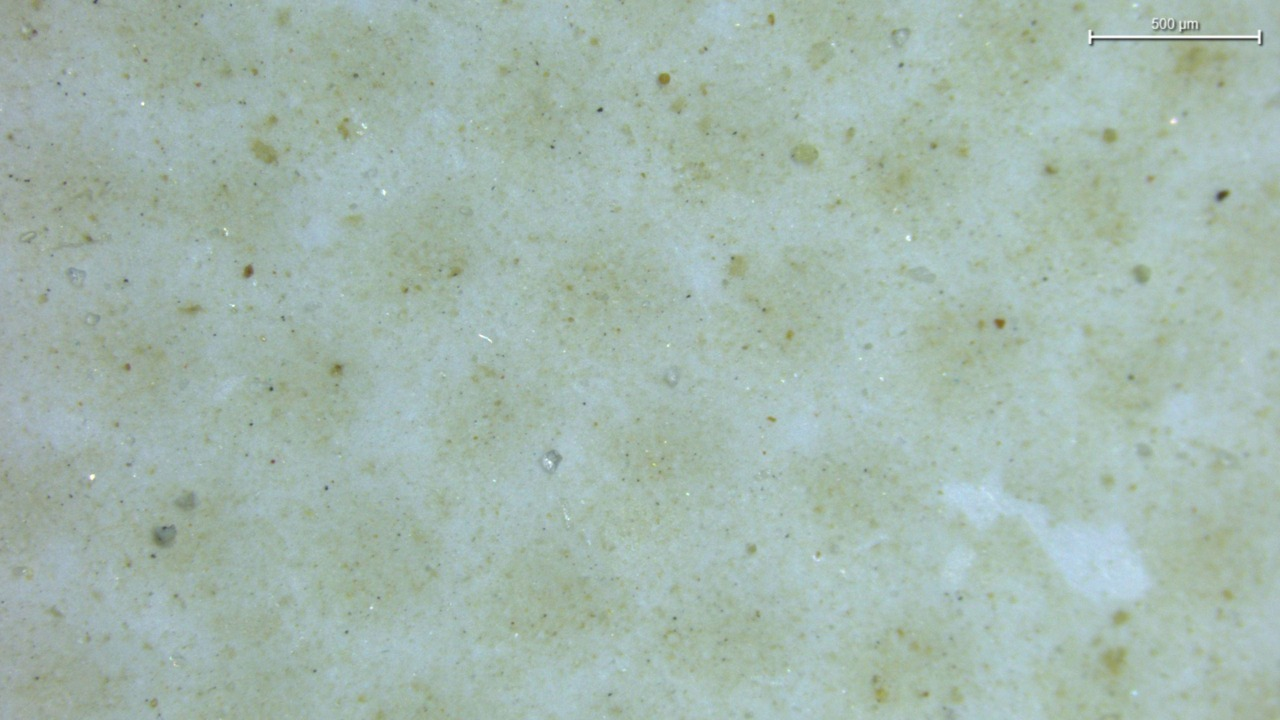microplastic_fragment: (538, 449, 562, 473), (155, 525, 176, 546), (67, 267, 85, 286)
